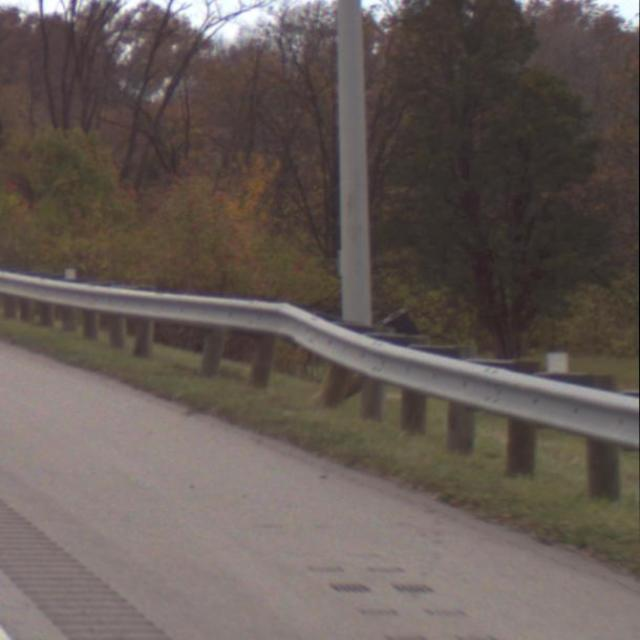Guard rail: (0, 270, 640, 504)
